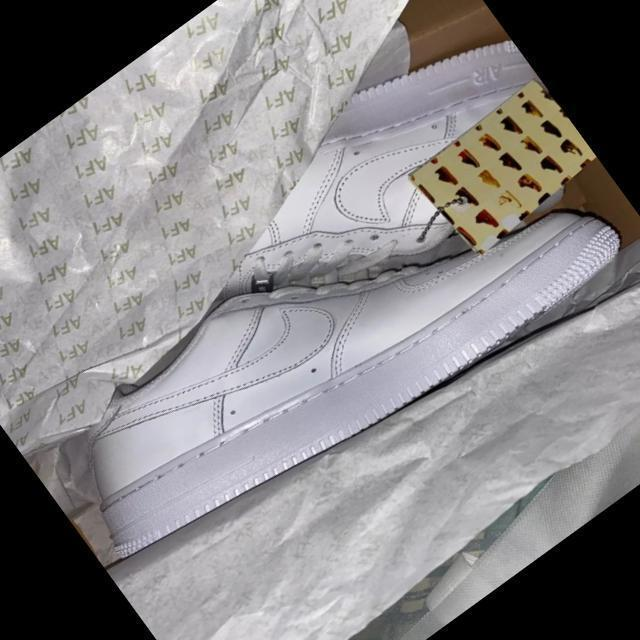nike fake air force: (27, 83, 633, 604)
